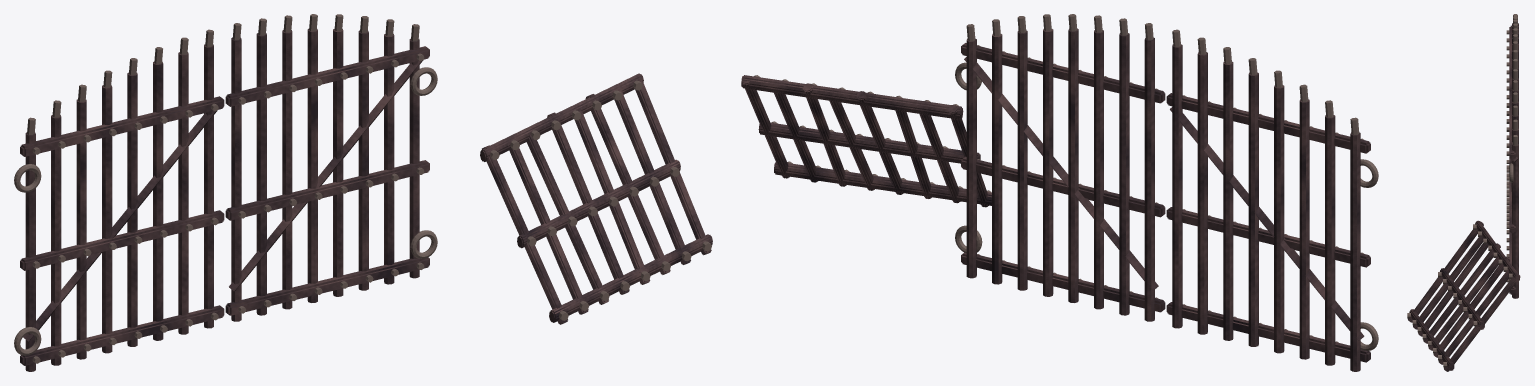
The model's file is tiger_arena_cage_door.glb.
The picture shows the model from 3 angles, left to right: view 1: azimuth 30°, elevation 25°; view 2: azimuth 150°, elevation 25°; view 3: azimuth 270°, elevation 25°; orthographic projection. The views are drawn at different scales.
Parts seen in each view (by area): view 1: CageLeafRight, CageLeafLeft, BrokenIronDoor, BrokenDoorRivets; view 2: CageLeafLeft, CageLeafRight, BrokenIronDoor; view 3: BrokenIronDoor, CageLeafRight, CageLeafLeft, BrokenDoorRivets.
Part boxes in pixels (x1,y1,x2,y2): CageLeafRight: (225, 14, 437, 321); CageLeafLeft: (14, 29, 224, 371); BrokenIronDoor: (480, 73, 712, 324); BrokenDoorRivets: (490, 80, 711, 320); CageLeafLeft: (1166, 29, 1378, 371); CageLeafRight: (955, 14, 1165, 321); BrokenIronDoor: (741, 75, 991, 207); BrokenIronDoor: (1407, 220, 1520, 371); CageLeafRight: (1506, 50, 1518, 298); CageLeafLeft: (1506, 14, 1518, 224); BrokenDoorRivets: (1407, 224, 1512, 367).
Bounding box in the file's own units: 13.03 × 5.77 × 3.04.
2 materials, 1 textured.
